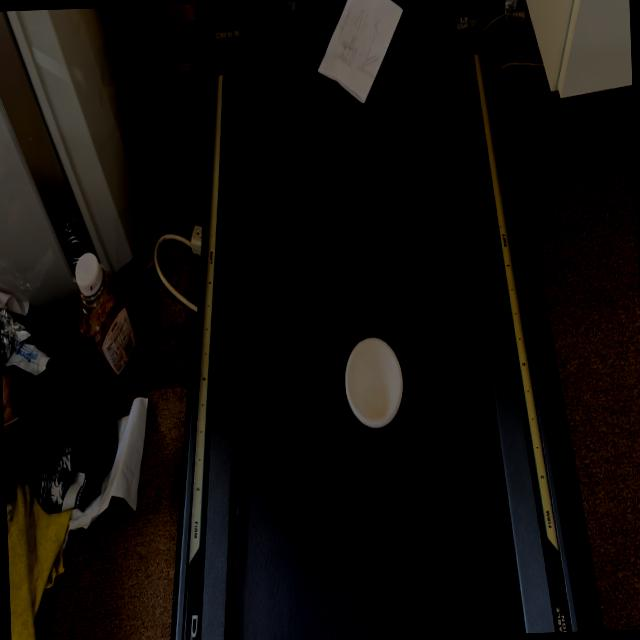Recycle: (313, 0, 406, 108), (342, 334, 406, 429)
